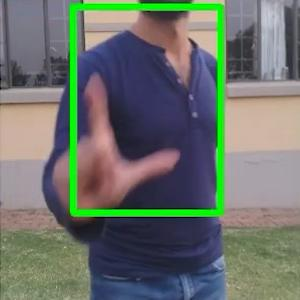land_hand: (38, 71, 180, 224)
